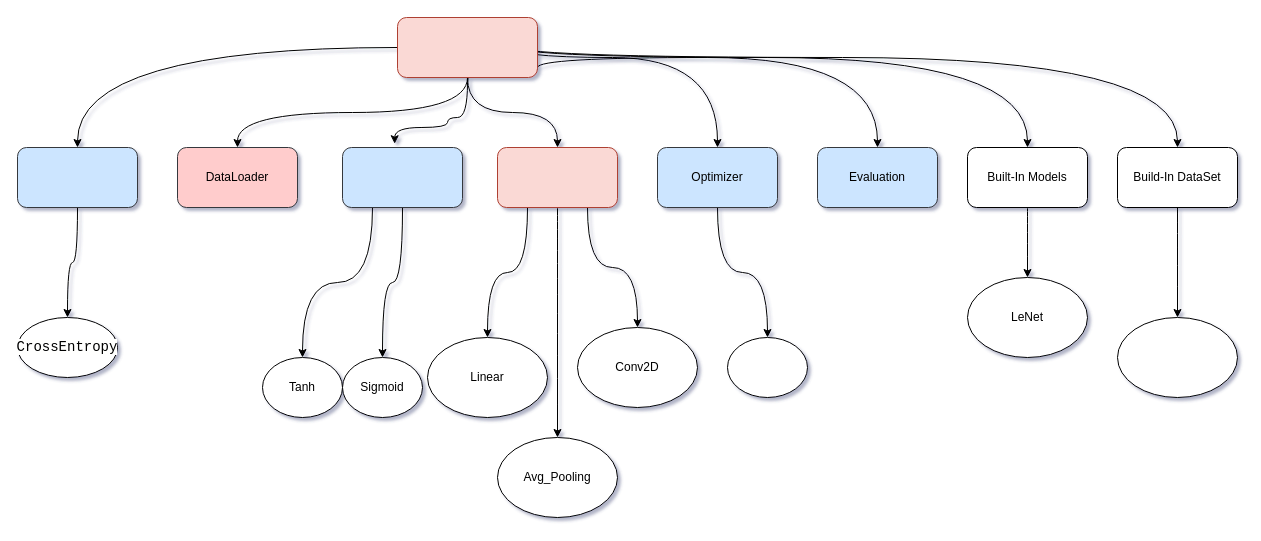
This 1261x541 diagram has some shape labels left out. Each missing label, with the centre of its shape:
Activation Functions: (402,177)
Custom_DL_Framework: (467,47)
Layers: (557,177)
Loss Functions: (77,177)
MNIST: (1177,357)
SGD: (767,367)
